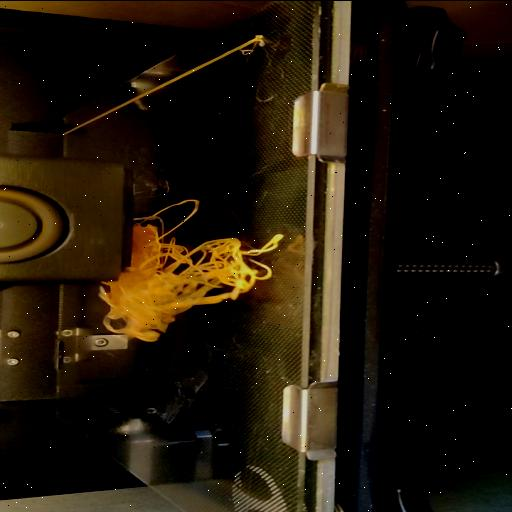spaghetti: (143, 196, 285, 282)
